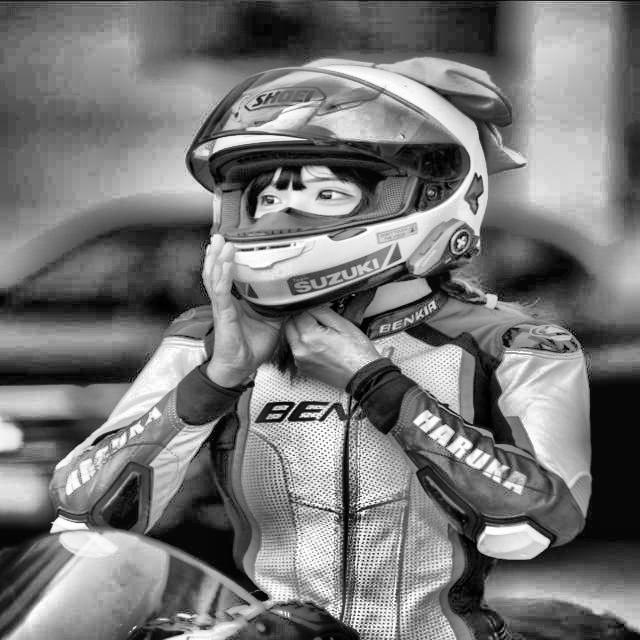Helmet: (176, 48, 533, 322)
